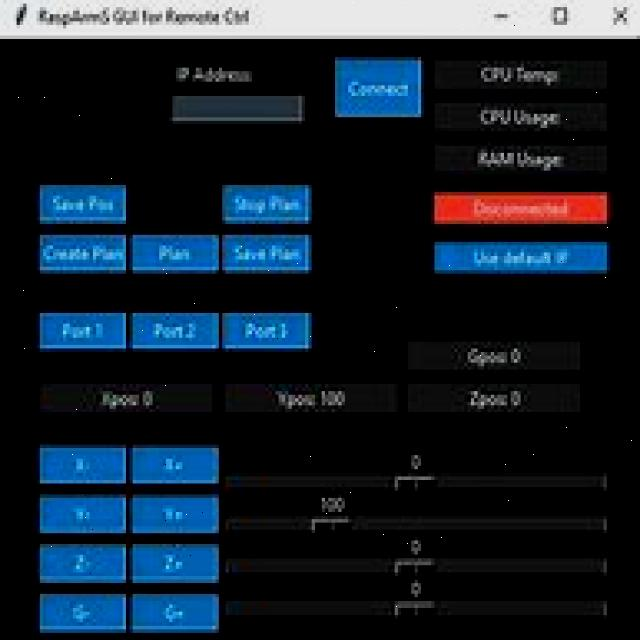button: (406, 334, 584, 372), (404, 380, 586, 417), (432, 190, 610, 227), (432, 237, 610, 274), (332, 52, 423, 120), (432, 142, 610, 176), (37, 382, 213, 416), (434, 100, 608, 134), (217, 384, 400, 416), (433, 59, 608, 90), (36, 309, 129, 352), (220, 309, 312, 352), (129, 443, 220, 486), (129, 492, 220, 535), (222, 182, 312, 225), (37, 182, 126, 225), (129, 592, 220, 634), (130, 543, 220, 585), (38, 542, 127, 584), (129, 310, 220, 351), (39, 492, 127, 534), (38, 594, 126, 635), (38, 444, 128, 484), (131, 232, 220, 272), (40, 232, 128, 272), (220, 234, 312, 272), (484, 0, 522, 25), (549, 0, 571, 29), (608, 3, 632, 29)
icon: (8, 0, 32, 29)
input: (170, 92, 305, 124)
label: (35, 3, 256, 31), (171, 62, 258, 86)
slider: (222, 596, 611, 622), (220, 471, 611, 493), (222, 556, 610, 578), (224, 514, 611, 536)
